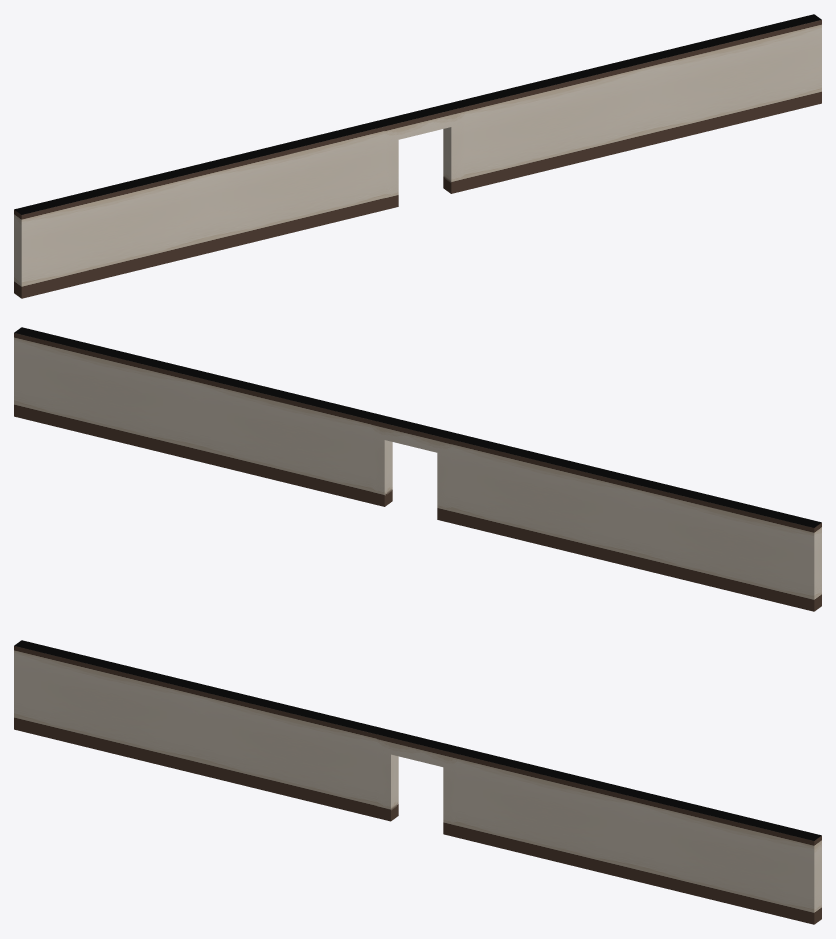
Rendered from lvl 1 long door.fbx.
3 renders of one model, top to bottom at view 1: azimuth 30°, elevation 25°; view 2: azimuth 150°, elevation 25°; view 3: azimuth 330°, elevation 25°, orthographic.
Visible parts, largest first — view 1: lvl 1 long door; view 2: lvl 1 long door; view 3: lvl 1 long door.
Part boxes in pixels (box(x1,y1,x2,y2)): lvl 1 long door: box(14, 14, 821, 298); lvl 1 long door: box(14, 327, 821, 611); lvl 1 long door: box(14, 640, 821, 924).
Size of the model in its own units: 6000 by 600 by 100.
